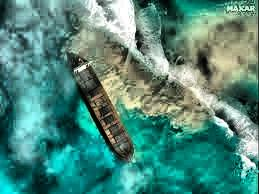truecolor: (70, 23, 211, 132), (182, 16, 259, 92)
